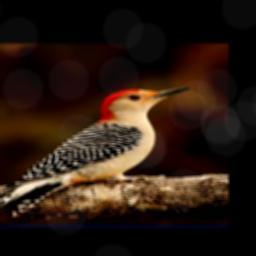Woodpecker: (0, 86, 189, 222)
